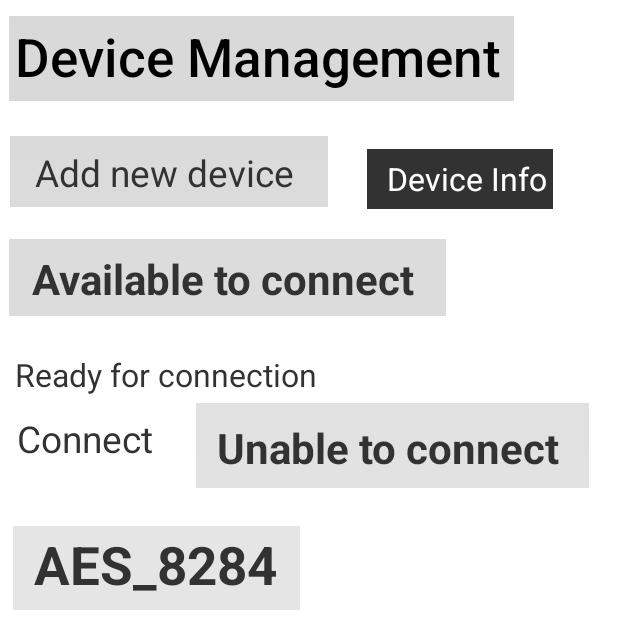2: (188, 544, 216, 586)
4: (250, 541, 277, 587)
8: (157, 543, 185, 585), (221, 544, 246, 586)
A: (35, 542, 71, 587), (32, 264, 58, 298), (32, 158, 56, 187)
D: (13, 33, 45, 78), (385, 164, 411, 196)
E: (72, 545, 99, 587)
G: (19, 422, 41, 455)
M: (188, 34, 232, 80)
R: (13, 360, 36, 391)
S: (101, 544, 131, 586)
U: (221, 432, 243, 466)
